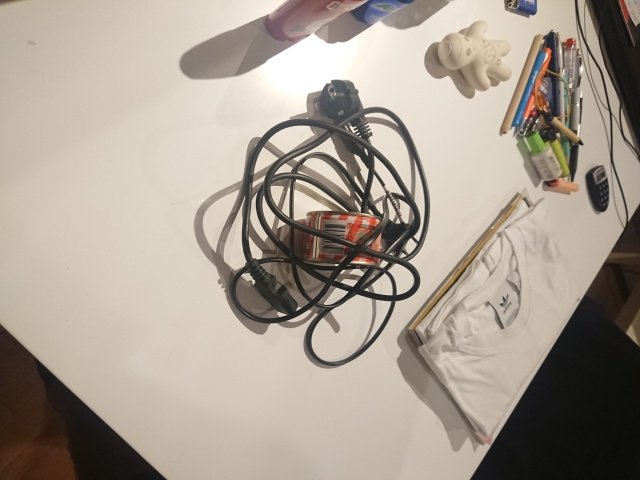Podravka Luncheon Meat 150g: (301, 209, 384, 271)
